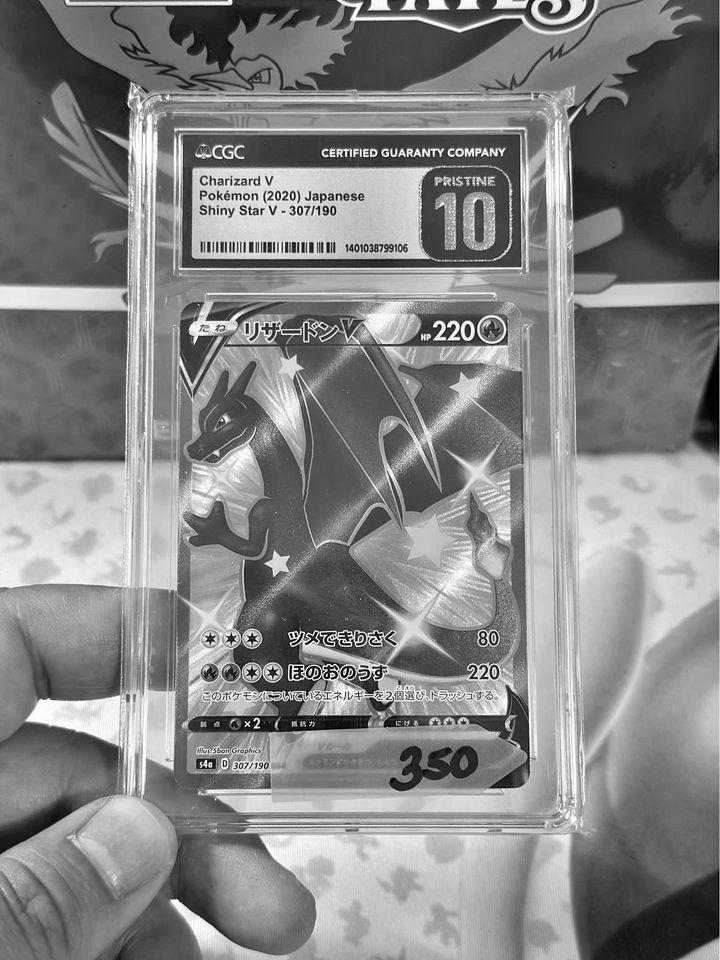card: (173, 299, 531, 790)
